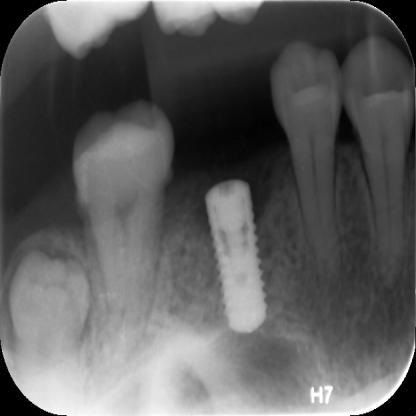ITI: (193, 172, 285, 342)
